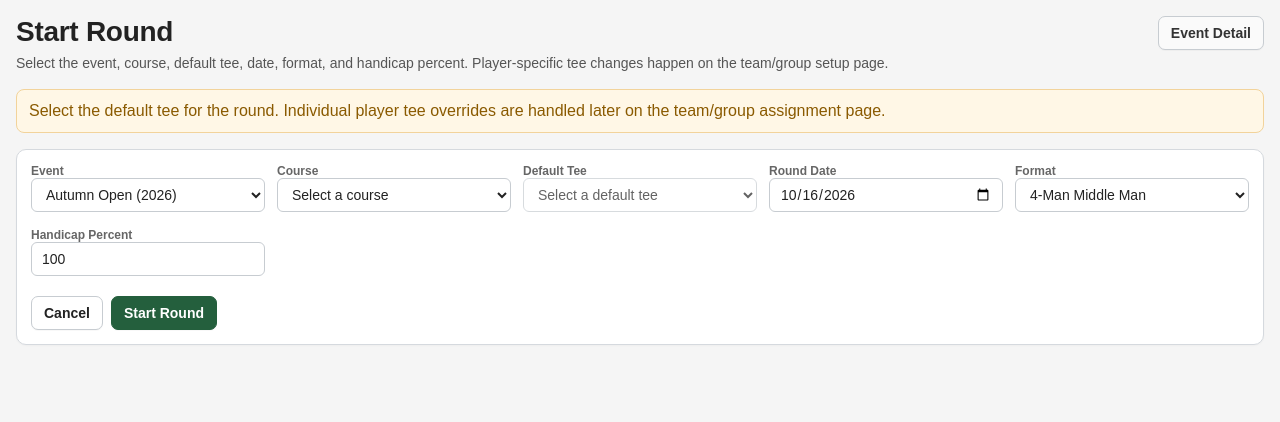
Test: Round setup page characterization (before extraction) › rejects a nonintegral handicap percentage
This screenshot has width=1280, height=422.
Expected: the dropdown labelled "Event" is shown, [31, 178, 265, 212]
Select "Lake Course — North Hills" in the dropdown labelled "Course" at (394, 195), box [277, 178, 511, 212]
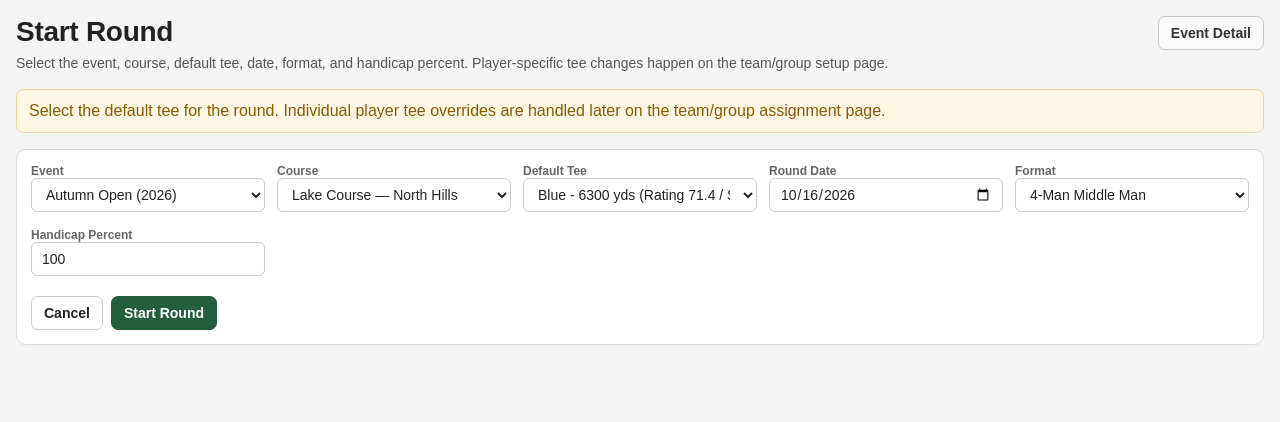
Expected: the dropdown labelled "Default Tee" shows "Blue - 6300 yds (Rating 71.4 / Slope 128) eff. 2026-01-01", [523, 178, 757, 212]
Replace the text in the number field labelled "Handicap Percent" with "75.5" at (148, 259), box [31, 242, 265, 276]
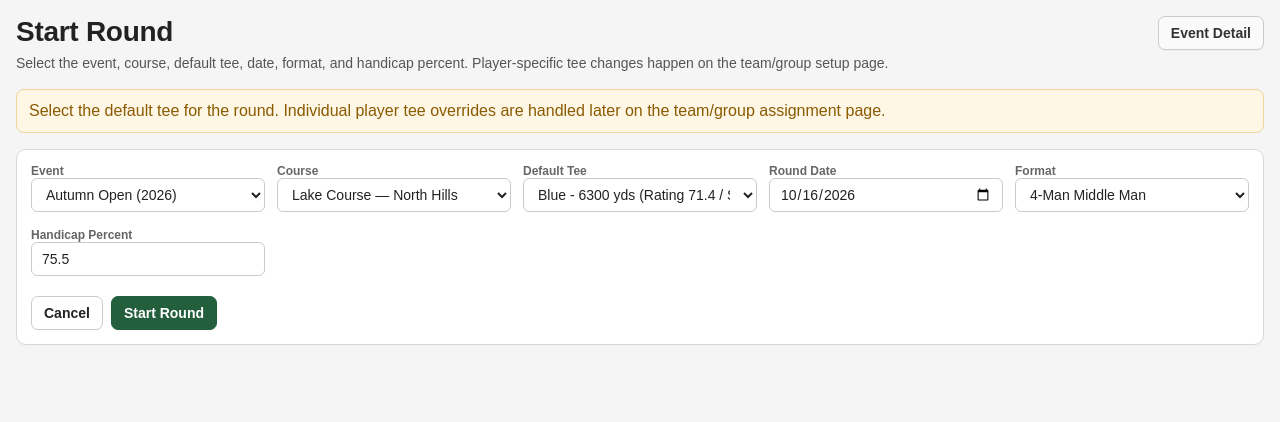
Click the button "Start Round" at (164, 313), box [111, 296, 217, 330]
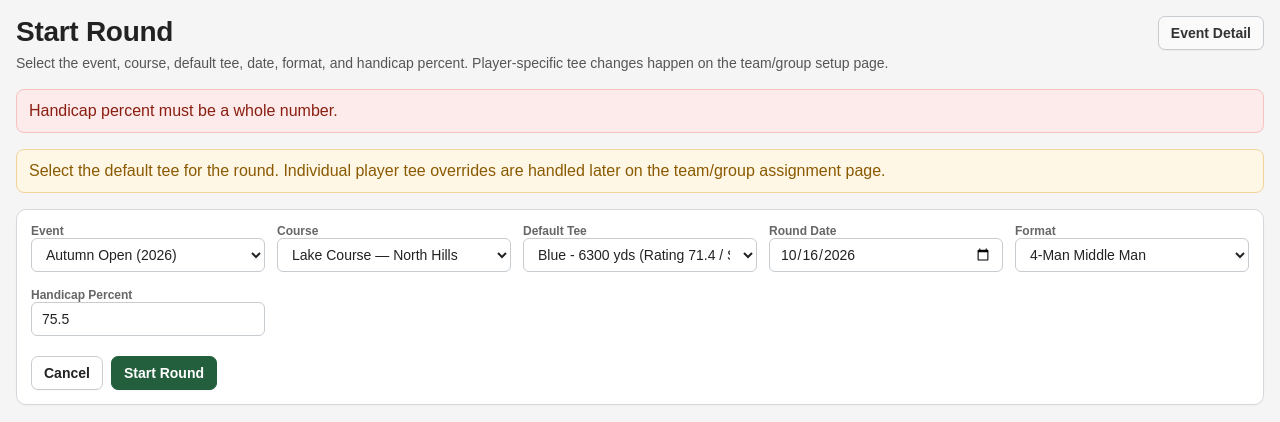
Expected: the text "Handicap percent must be a whole number." is shown, [16, 89, 1264, 133]
